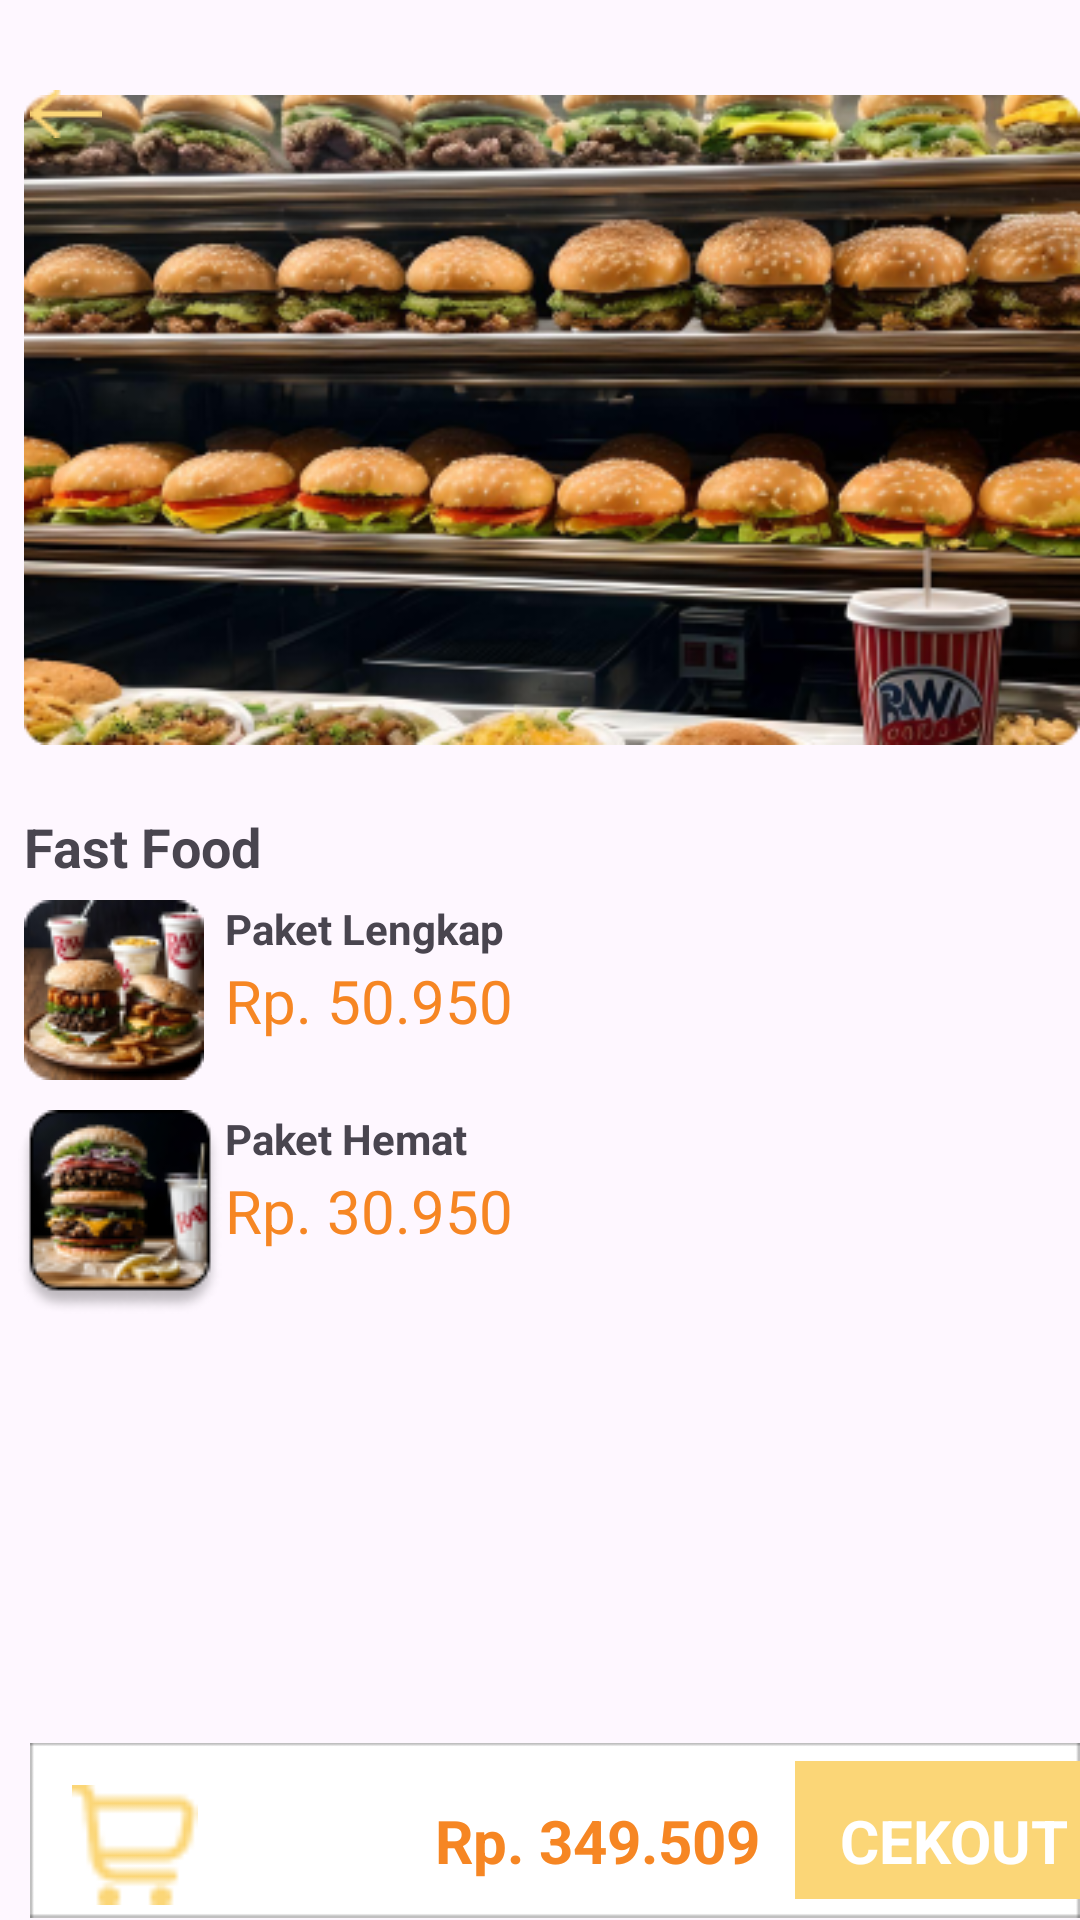

Named icons in this screenshot (1080 x 1920) and their centers, [x,y]:
arrowy: [66,114]
